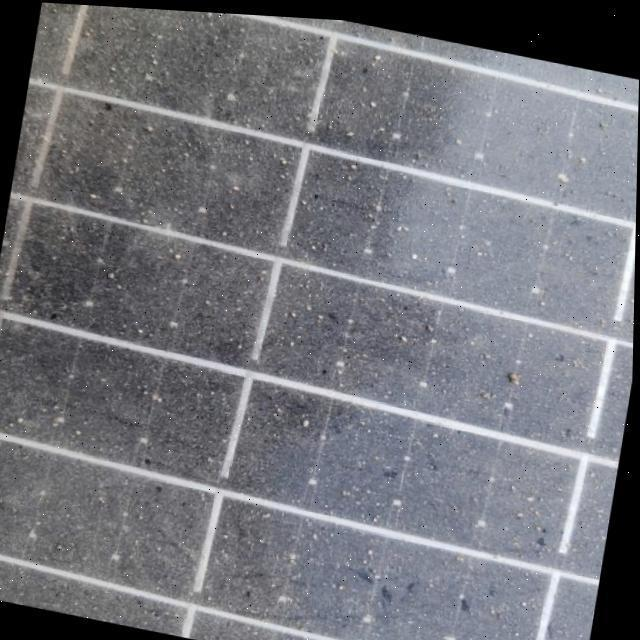Surface Contaminant: (0, 2, 639, 640)
